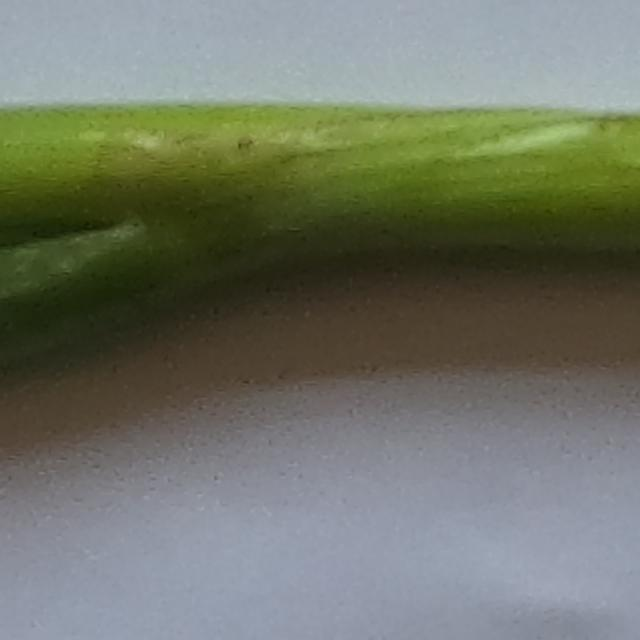green_onion: (0, 102, 640, 394)
